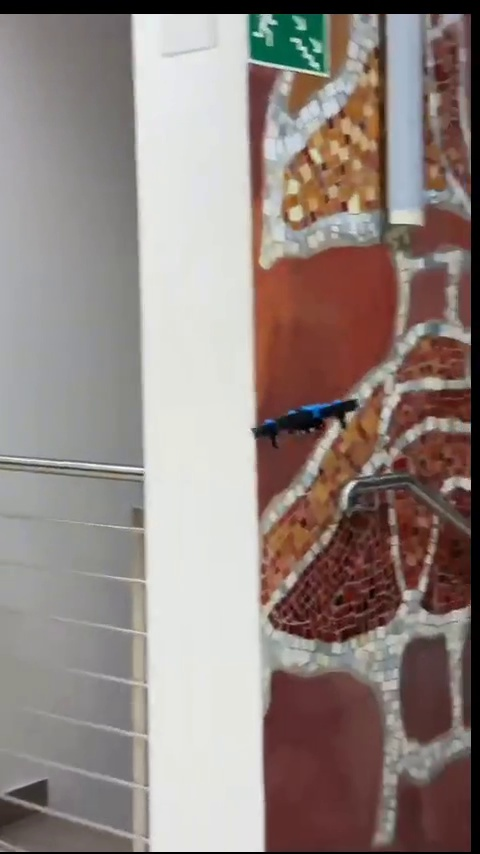drone: (249, 402, 358, 436)
